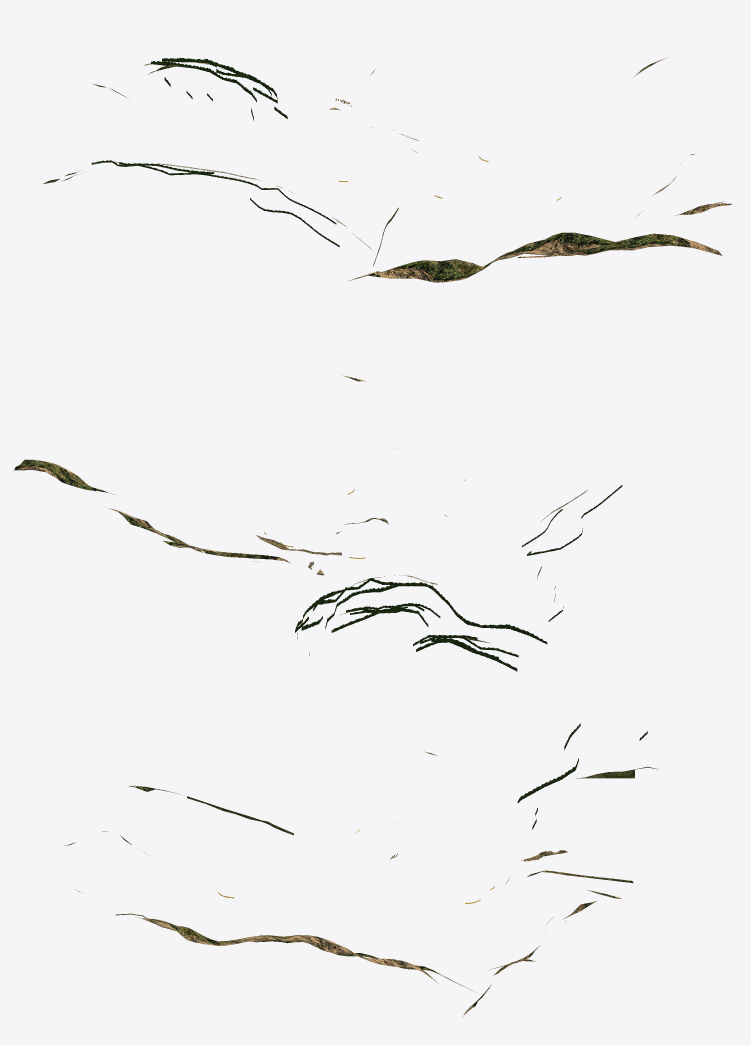
The model's file is track-EU_C4_V1_env.glb.
3 renders of one model, top to bottom at view 1: azimuth 30°, elevation 25°; view 2: azimuth 150°, elevation 25°; view 3: azimuth 270°, elevation 25°, orthographic. The views are drawn at different scales.
Visible parts, largest first — view 1: EU_C4_V1_env; view 2: EU_C4_V1_env; view 3: EU_C4_V1_env.
Boxes of the visible parts, box(x1,y1,x2,y2) form: EU_C4_V1_env: box(43, 57, 731, 282); EU_C4_V1_env: box(14, 375, 622, 671); EU_C4_V1_env: box(64, 723, 657, 1016).
Size of the model in its own units: 4109 by 336 by 3868.
11 materials, 10 textured.
